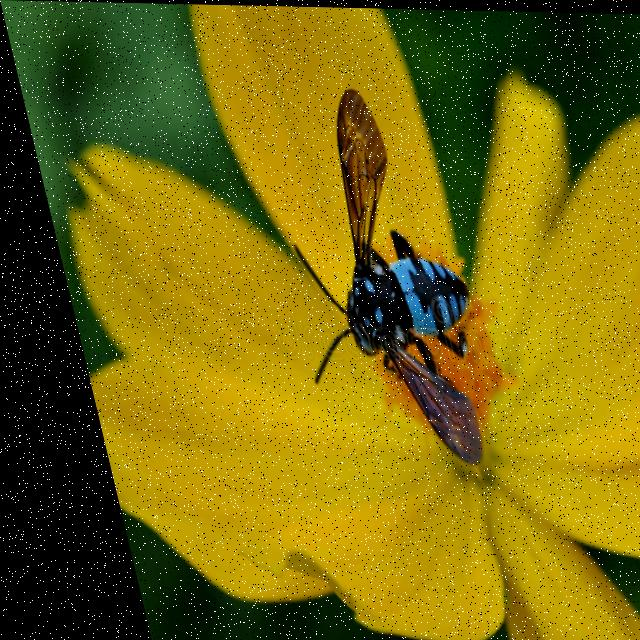Thyreus: (219, 80, 502, 483)
